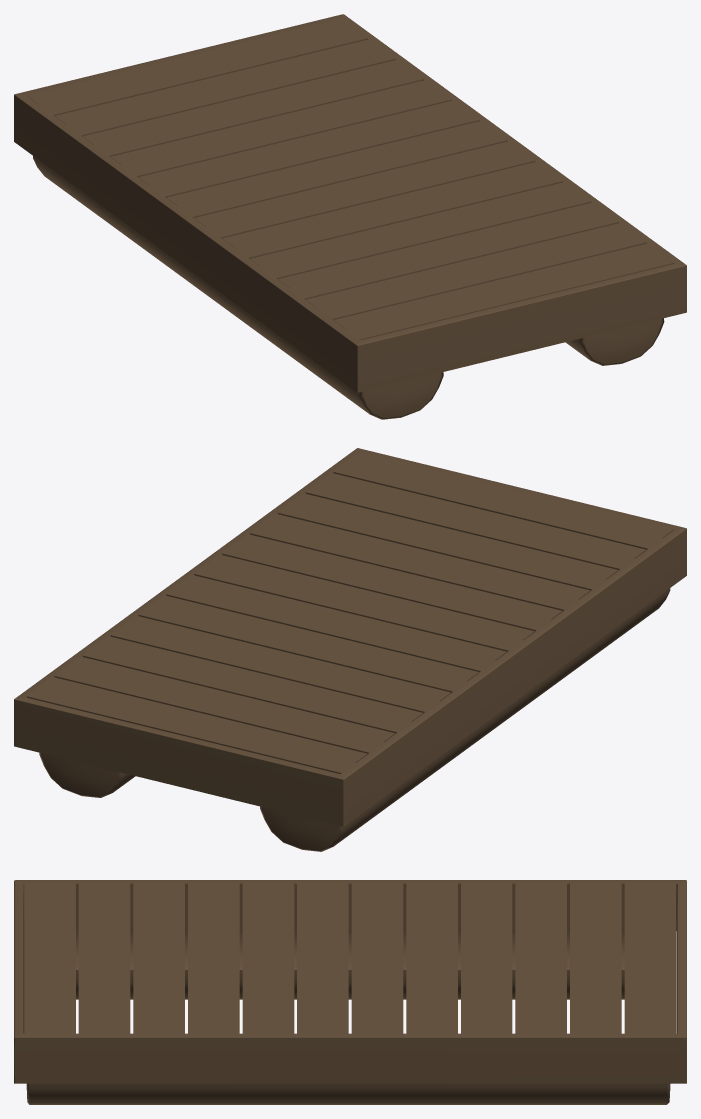
Rendered from Raft_Rect.fbx.
3 renders of one model, top to bottom at view 1: azimuth 30°, elevation 25°; view 2: azimuth 150°, elevation 25°; view 3: azimuth 270°, elevation 25°, orthographic. The views are drawn at different scales.
Visible parts, largest first — view 1: Raft_rectangle; view 2: Raft_rectangle; view 3: Raft_rectangle.
Boxes of the visible parts, x1,y1,x2,y2 form: Raft_rectangle: (14, 14, 686, 419); Raft_rectangle: (14, 448, 686, 851); Raft_rectangle: (14, 880, 686, 1104).
Size of the model in its own units: 7.23 by 1.9 by 13.03.
